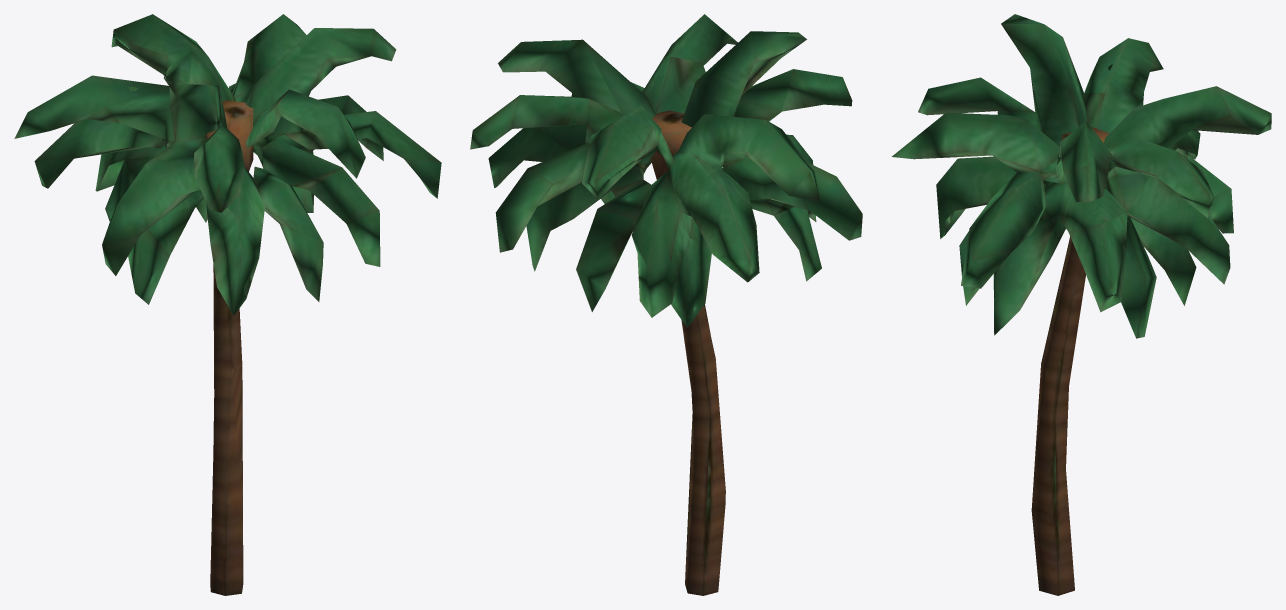
The model's file is palm_b_far.glb.
3 views of the same model, side by side, from view 1: azimuth 30°, elevation 25°; view 2: azimuth 150°, elevation 25°; view 3: azimuth 270°, elevation 25° (orthographic). The views are drawn at different scales.
Visible parts, largest first — view 1: body; view 2: body; view 3: body.
Boxes of the visible parts, left/top/right/bottom form: body: left=14, top=14, right=441, bottom=595; body: left=470, top=14, right=862, bottom=595; body: left=892, top=14, right=1271, bottom=595.
Bounding box in the file's own units: 4.39 × 6.63 × 4.2.
2 materials, 2 textured.
